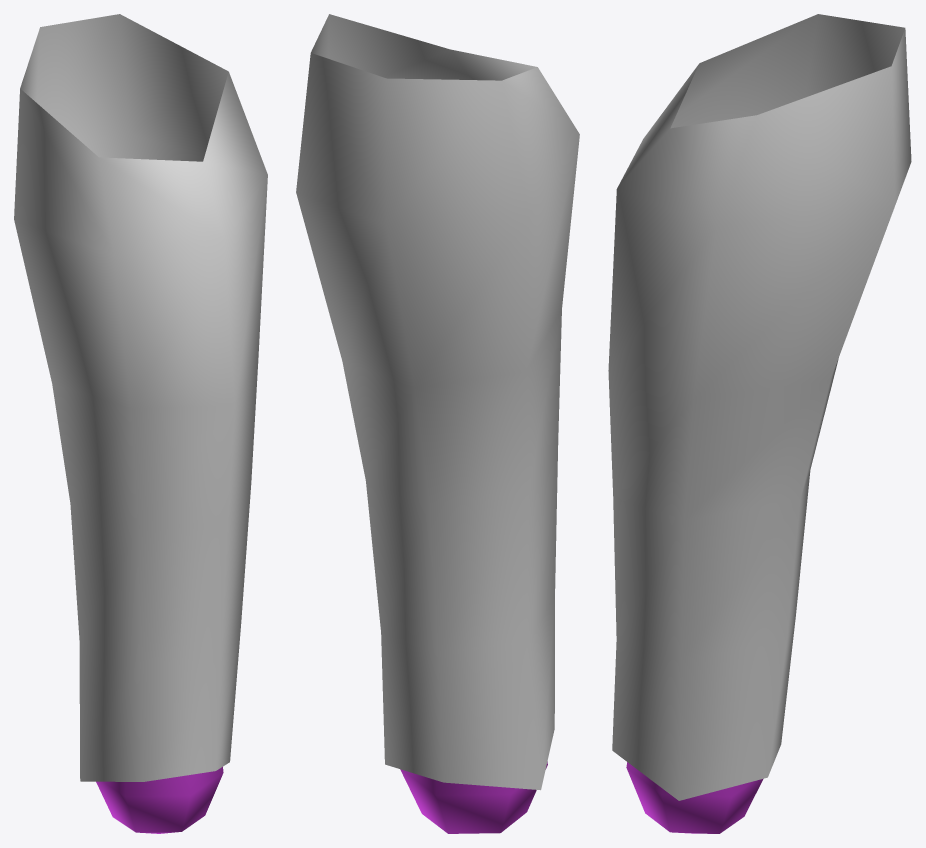
File: lower_leg.gltf
3 renders of one model, left to right at view 1: azimuth 30°, elevation 25°; view 2: azimuth 150°, elevation 25°; view 3: azimuth 270°, elevation 25°, orthographic. The views are drawn at different scales.
Parts seen in each view (by area): view 1: LEFT_LOWER_LEG; view 2: LEFT_LOWER_LEG; view 3: LEFT_LOWER_LEG.
Boxes of the visible parts, box(x1,y1,x2,y2) form: LEFT_LOWER_LEG: box(14, 14, 267, 833); LEFT_LOWER_LEG: box(296, 14, 579, 833); LEFT_LOWER_LEG: box(608, 14, 911, 833).
Bounding box in the file's own units: 0.141 × 0.4624 × 0.1598.
